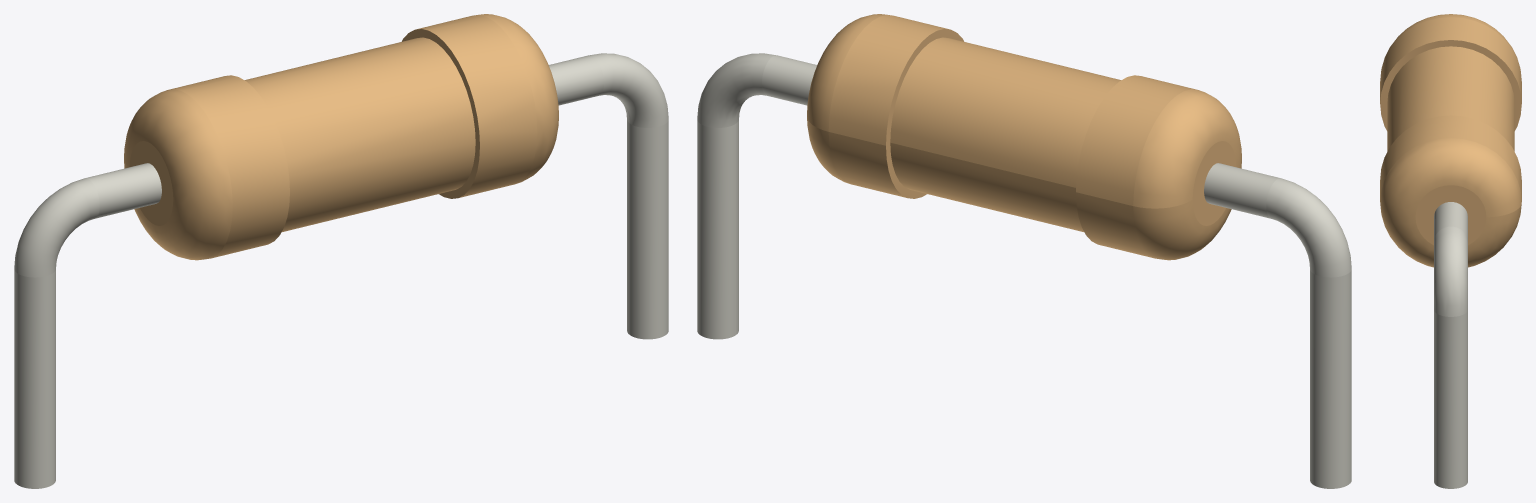
The model's file is resistor.glb.
3 renders of one model, left to right at view 1: azimuth 30°, elevation 25°; view 2: azimuth 150°, elevation 25°; view 3: azimuth 270°, elevation 25°, orthographic. The views are drawn at different scales.
Visible parts, largest first — view 1: resistor-1; view 2: resistor-1; view 3: resistor-1.
Boxes of the visible parts, bbox=[...] form: resistor-1: bbox=[14, 14, 668, 488]; resistor-1: bbox=[697, 14, 1351, 488]; resistor-1: bbox=[1380, 14, 1521, 488].
Bounding box in the file's own units: 0.0108 × 0.0055 × 0.0025.
